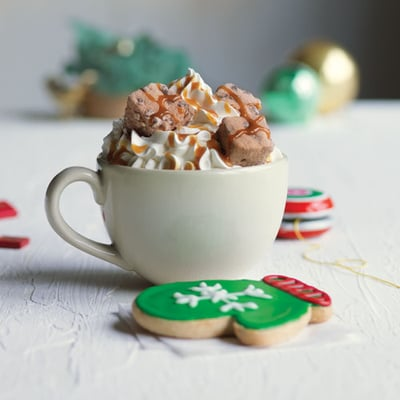curry: (16, 94, 400, 400)
salad: (131, 276, 323, 346)
sushi: (130, 274, 323, 346)
